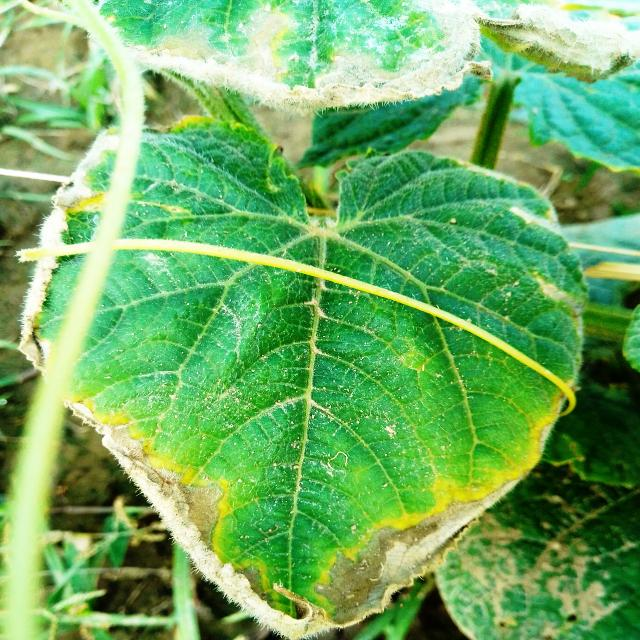Gummy-Stem-Blight: (61, 400, 531, 640), (137, 0, 640, 109)
